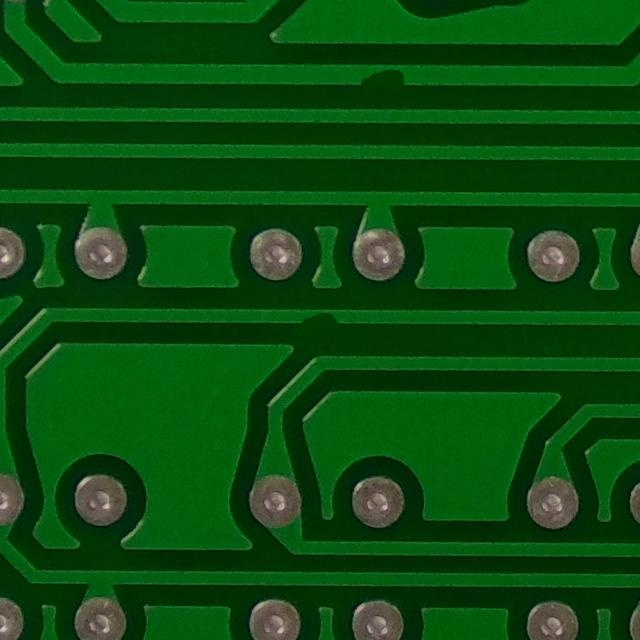mouse_bite: (288, 297, 352, 344)
